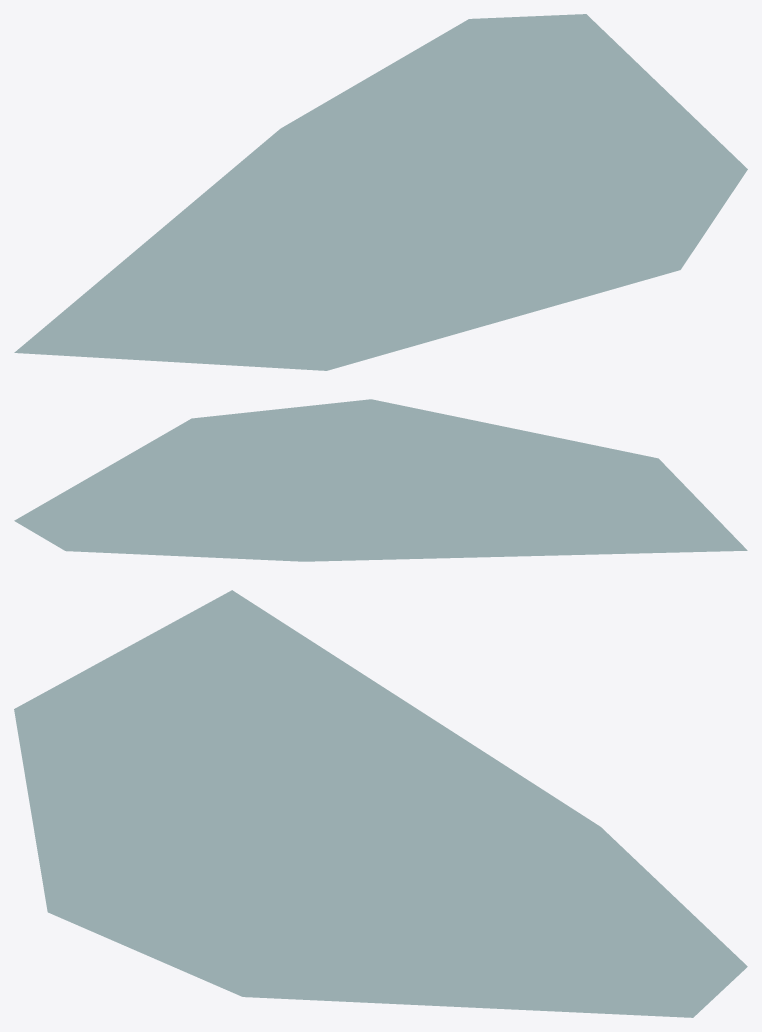
File: lorne-park-context-03.glb
3 views of the same model, one above another, from view 1: azimuth 30°, elevation 25°; view 2: azimuth 150°, elevation 25°; view 3: azimuth 270°, elevation 25° (orthographic). The views are drawn at different scales.
Parts seen in each view (by area): view 1: Shoreline; view 2: Shoreline; view 3: Shoreline.
Part boxes in pixels (x1,y1,x2,y2): Shoreline: (14, 14, 747, 370); Shoreline: (14, 399, 747, 561); Shoreline: (14, 590, 747, 1017).
Size of what is drawn, in the model's own units: 12.83 by 0 by 9.3.
